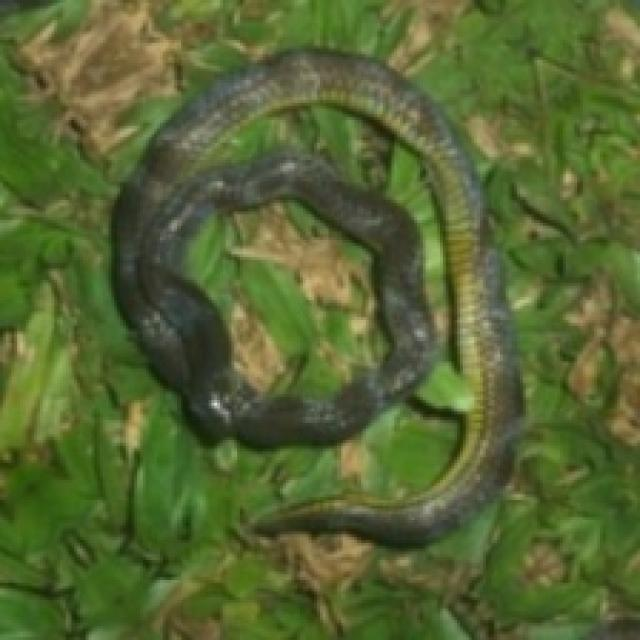gervais worm snake: (111, 51, 520, 543), (183, 197, 389, 397)
